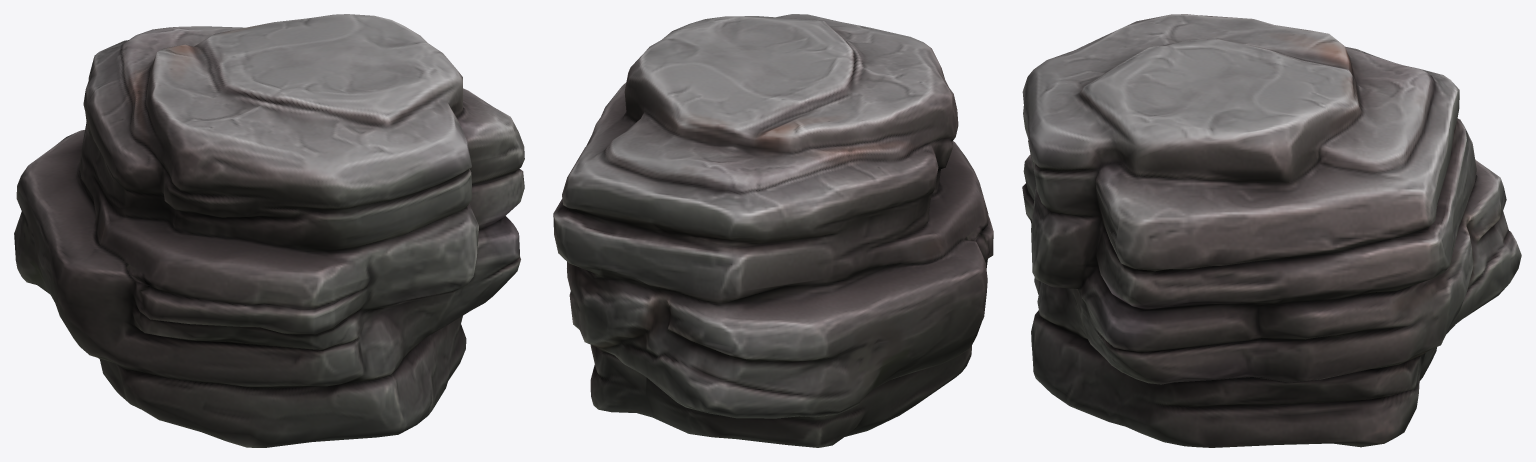
File: Rock 2.fbx
3 renders of one model, left to right at view 1: azimuth 30°, elevation 25°; view 2: azimuth 150°, elevation 25°; view 3: azimuth 270°, elevation 25°, orthographic. The views are drawn at different scales.
Parts seen in each view (by area): view 1: rock 2; view 2: rock 2; view 3: rock 2.
Part boxes in pixels (x1,y1,x2,y2): rock 2: [14, 14, 524, 447]; rock 2: [553, 14, 993, 447]; rock 2: [1022, 14, 1521, 447].
Bounding box in the file's own units: 3.88 × 2.93 × 4.06.
1 material, 1 textured.
